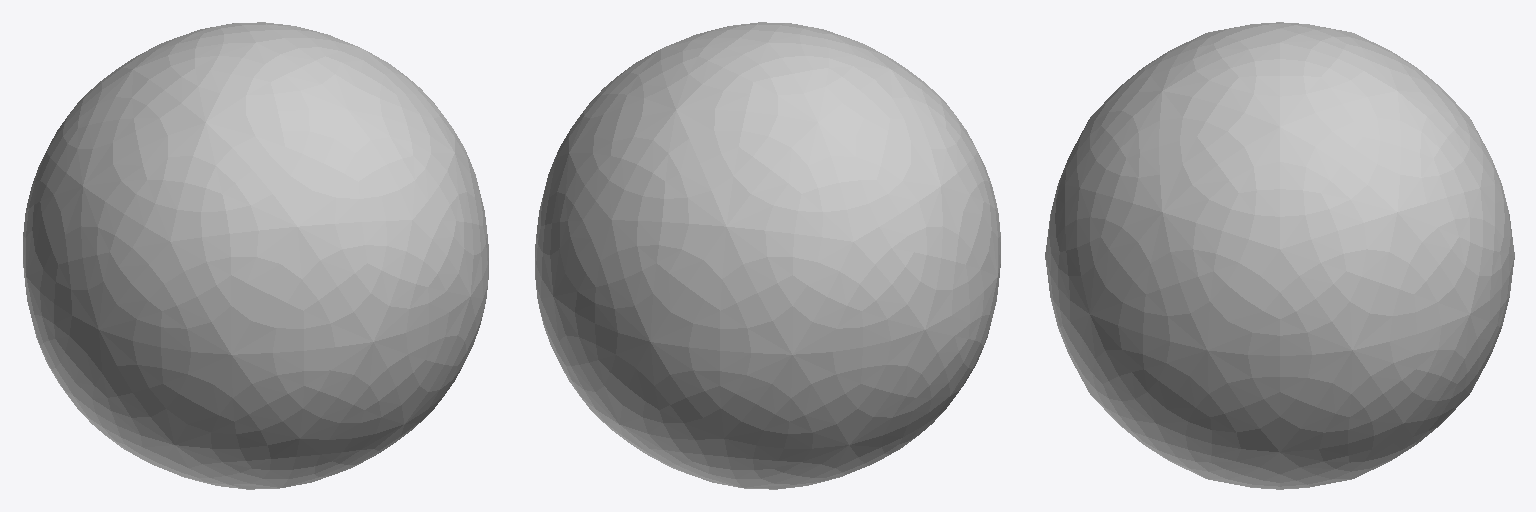
File: player.obj
The picture shows the model from 3 angles: view 1: azimuth 30°, elevation 25°; view 2: azimuth 150°, elevation 25°; view 3: azimuth 270°, elevation 25°; orthographic projection.
Visible parts, largest first — view 1: Icosphere; view 2: Icosphere; view 3: Icosphere.
Boxes of the visible parts, box(x1,y1,x2,y2) form: Icosphere: box(23, 22, 488, 489); Icosphere: box(535, 22, 1000, 489); Icosphere: box(1045, 22, 1514, 489).
Bounding box in the file's own units: 0.987 × 0.9966 × 0.9943.